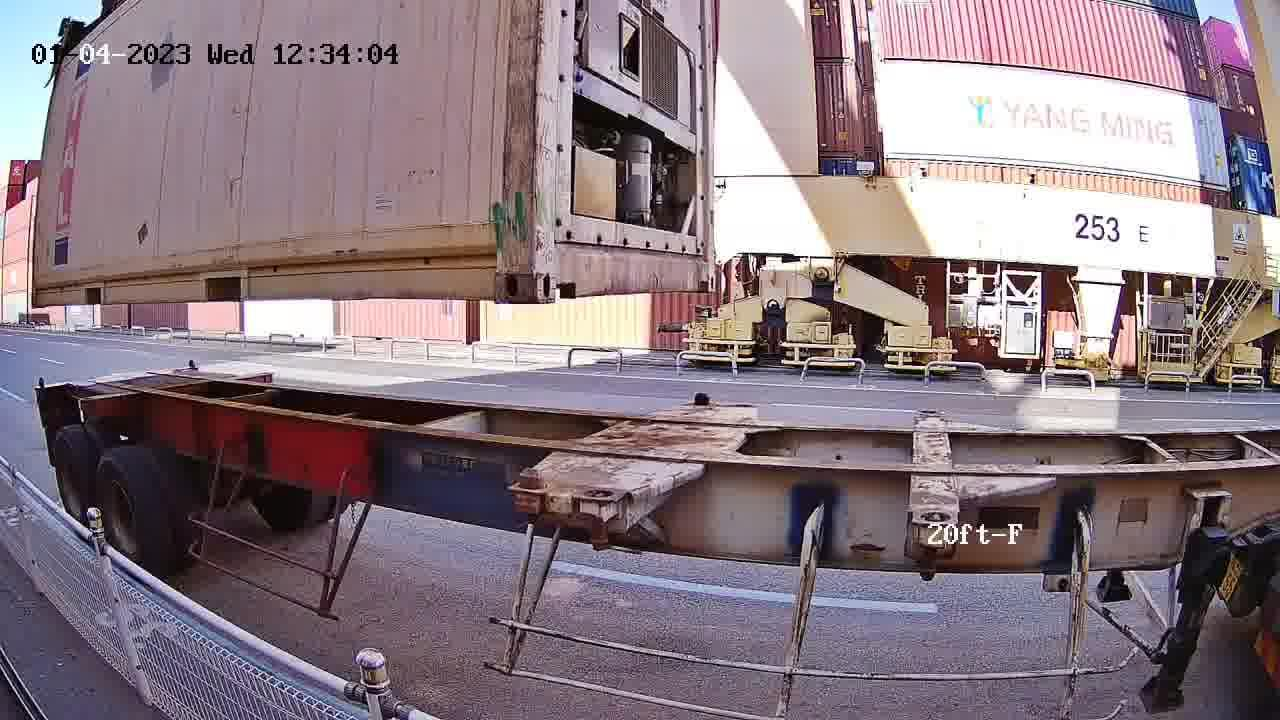Chassis: (512, 401, 712, 497), (575, 403, 759, 503)
Cone: (573, 487, 627, 554), (510, 466, 550, 518), (685, 390, 713, 410)
Hole_L: (536, 223, 592, 305)
Hole_R: (456, 225, 536, 304), (685, 246, 718, 293)
Tire: (96, 457, 149, 574), (53, 427, 93, 533)
